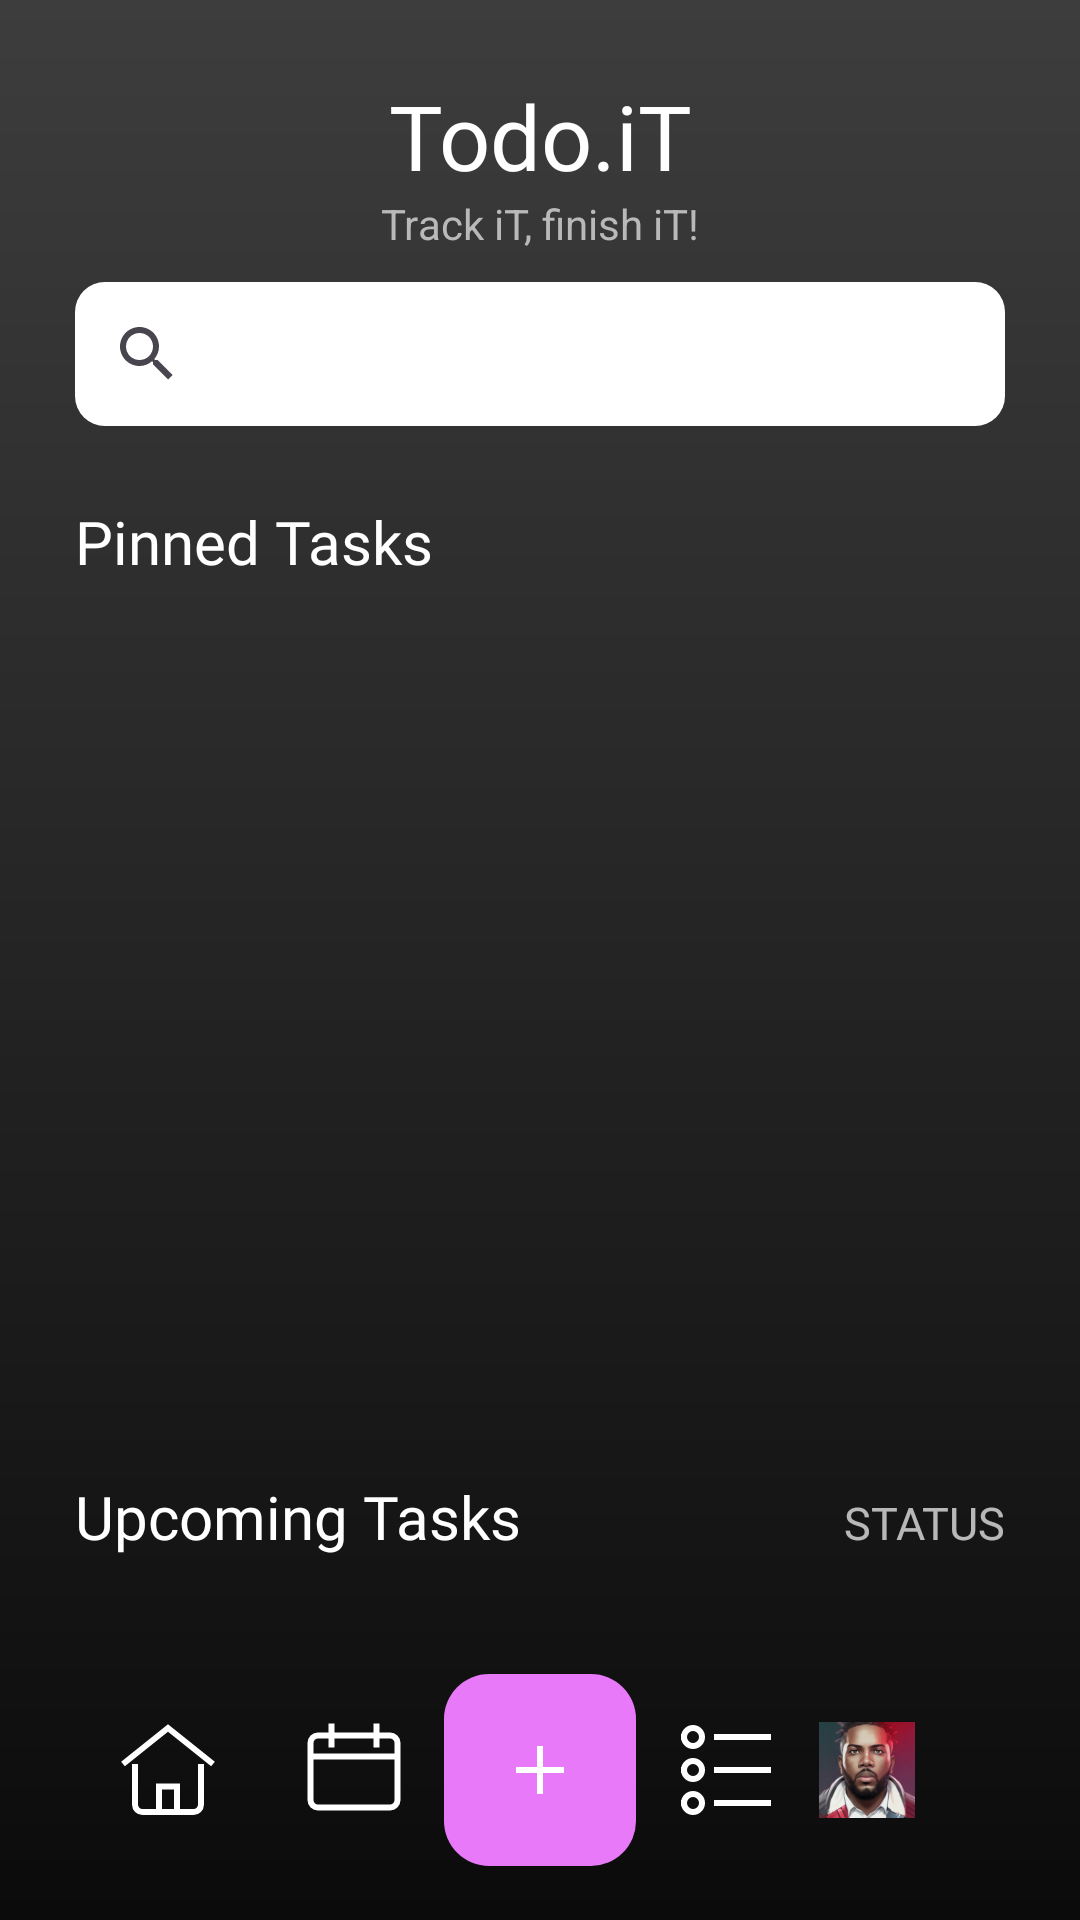

Locate icon controls on the screen. Image size 1080×1920, boxes as {"left": x1, "top": y1, "right": x2, "bottom": y2}.
Add icon: {"left": 444, "top": 1674, "right": 636, "bottom": 1866}
Calendar icon: {"left": 307, "top": 1723, "right": 401, "bottom": 1811}
Home icon: {"left": 121, "top": 1724, "right": 215, "bottom": 1815}
list icon: {"left": 681, "top": 1725, "right": 771, "bottom": 1815}
User profile icon: {"left": 819, "top": 1722, "right": 915, "bottom": 1818}
